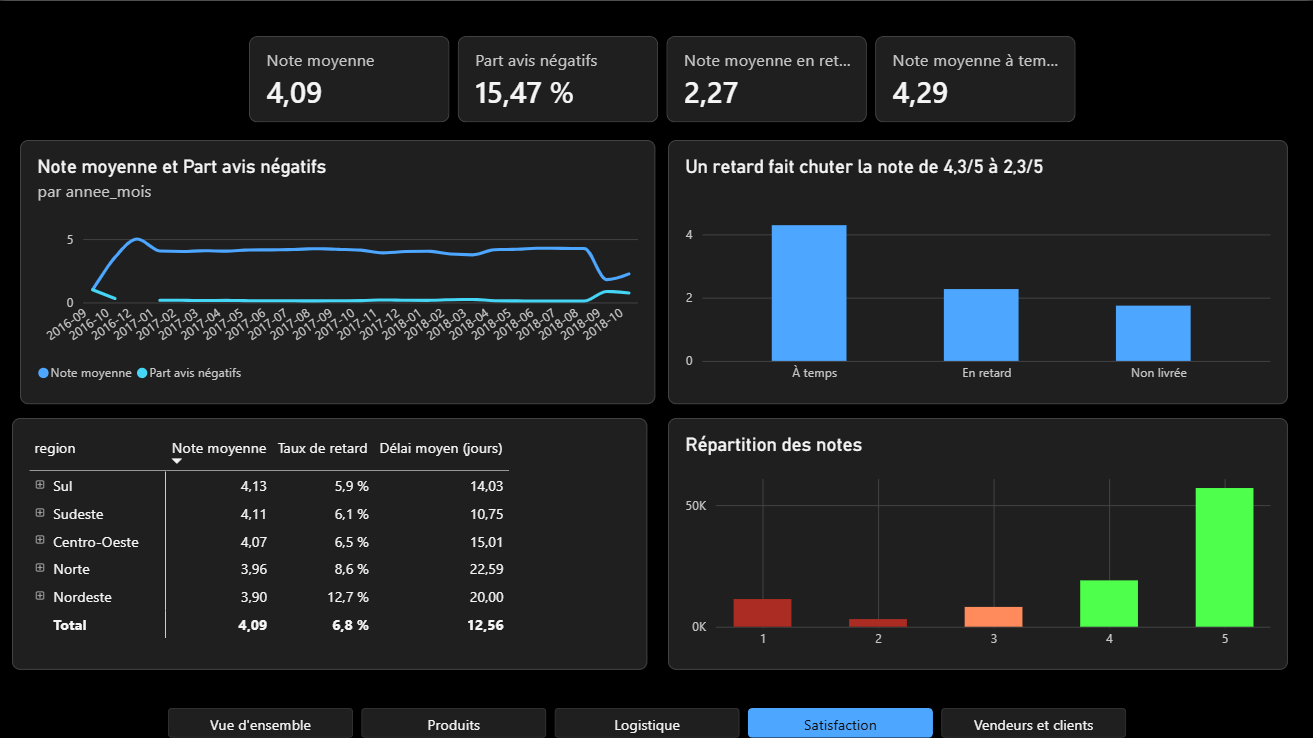

What the dashboard file says about the page in this screenshot:
{"tool":"powerbi","page":{"name":"Satisfaction","canvas":[1280,720],"ordinal":3},"visuals":[{"type":"cardVisual","fields":{"Data":["_Mesures.Note moyenne","_Mesures.Part avis négatifs","_Mesures.Note moyenne en retard","_Mesures.Note moyenne à temps"]},"box":[244.1,34,806.3,84.6],"z":0},{"type":"clusteredColumnChart","title":"Répartition des notes","fields":{"Category":["fait_commandes.note_avis"],"Y":["_Mesures.Nb commandes"]},"box":[652,406,603.3,245],"z":1000},{"type":"clusteredColumnChart","title":"Un retard fait chuter la note de 4,3/5 à 2,3/5","fields":{"Category":["fait_commandes.Statut livraison"],"Y":["_Mesures.Note moyenne"]},"box":[652,135,603.3,256.9],"z":2000},{"type":"lineChart","fields":{"Category":["dim_date.annee_mois"],"Y":["_Mesures.Note moyenne","_Mesures.Part avis négatifs"]},"box":[21.4,135.2,618,257],"z":3000},{"type":"pivotTable","fields":{"Rows":["dim_client.region","dim_client.etat"],"Values":["_Mesures.Note moyenne","_Mesures.Taux de retard","_Mesures.Délai moyen (jours)"]},"box":[14,406,618,245],"z":4000},{"type":"pageNavigator","box":[165.1,687.5,934.6,29.1],"z":5000}]}

Visuals, with their boxes in screenshot pixels (x1, y1, x2, y2), scaled from the page's 1280x720 canvas onto the 1313x738 screenshot:
cardVisual - _Mesures.Note moyenne x _Mesures.Part avis négatifs: pyautogui.locateOnScreen(250, 35, 1077, 122)
"Répartition des notes" clusteredColumnChart: pyautogui.locateOnScreen(669, 416, 1288, 667)
"Un retard fait chuter la note de 4,3/5 à 2,3/5" clusteredColumnChart: pyautogui.locateOnScreen(669, 138, 1288, 402)
lineChart - dim_date.annee_mois x _Mesures.Note moyenne: pyautogui.locateOnScreen(22, 139, 656, 402)
pivotTable - dim_client.region x dim_client.etat: pyautogui.locateOnScreen(14, 416, 648, 667)
pageNavigator: pyautogui.locateOnScreen(169, 705, 1128, 735)
